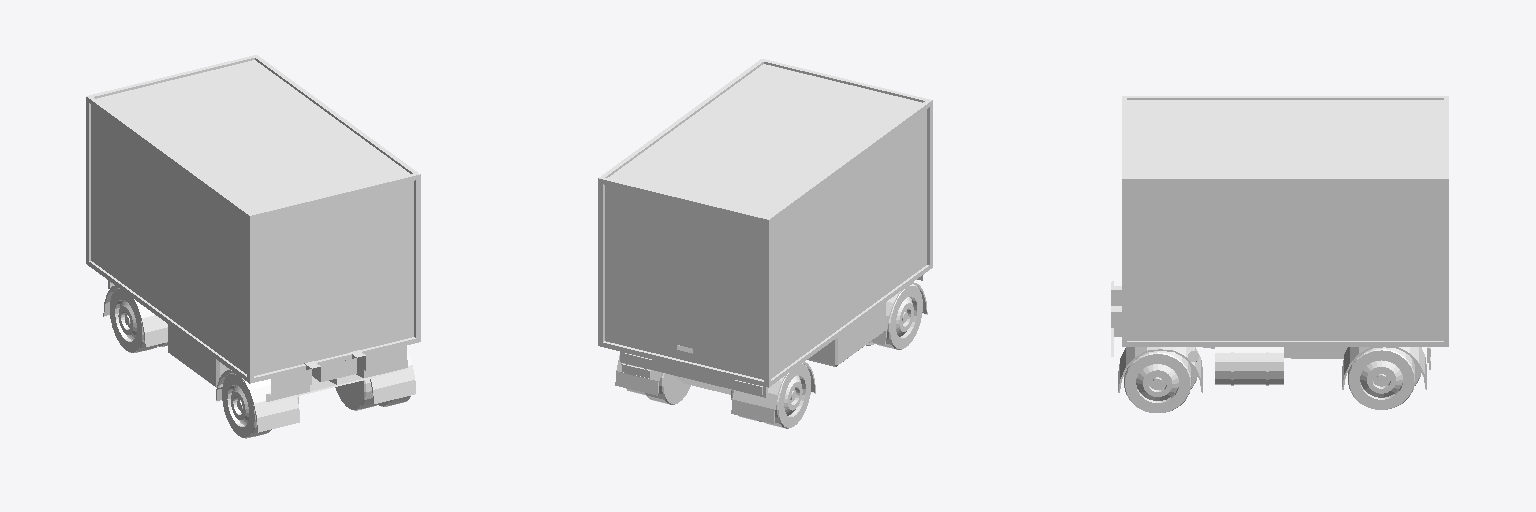
Rendered from truck_back.obj.
3 views of the same model, side by side, from view 1: azimuth 30°, elevation 25°; view 2: azimuth 150°, elevation 25°; view 3: azimuth 270°, elevation 25° (orthographic).
Visible parts, largest first — view 1: 1_Mesh.069, cabin_Mesh.061, 1_2.001_Mesh.078, front_wheel_2.006_Mesh.080, front_wheel_2.003_Mesh.054, Cube_Mesh.076, 1_2_Mesh.064, front_wheel_2.007_Mesh.081; view 2: 1_Mesh.069, 1_2_Mesh.064, Cube_Mesh.076, front_wheel_2.006_Mesh.080, front_wheel_2.003_Mesh.054, back_bumper_Mesh.071, front_wheel_2.004_Mesh.053, taillights_Mesh.063; view 3: 1_Mesh.069, front_wheel_2.001_Mesh.079, front_wheel_2.002_Mesh.055, fuel_reservior_Mesh.073, cabin_Mesh.061, 1_2.001_Mesh.078, 1_2_Mesh.064.
Boxes of the visible parts, x1=… form: 1_Mesh.069: x1=86, y1=55, x2=420, y2=383; cabin_Mesh.061: x1=266, y1=346, x2=407, y2=402; 1_2.001_Mesh.078: x1=216, y1=351, x2=415, y2=432; front_wheel_2.006_Mesh.080: x1=222, y1=373, x2=271, y2=438; front_wheel_2.003_Mesh.054: x1=110, y1=288, x2=158, y2=352; Cube_Mesh.076: x1=168, y1=324, x2=229, y2=388; 1_2_Mesh.064: x1=103, y1=286, x2=167, y2=346; front_wheel_2.007_Mesh.081: x1=335, y1=379, x2=379, y2=410; 1_Mesh.069: x1=598, y1=59, x2=932, y2=387; 1_2_Mesh.064: x1=615, y1=355, x2=815, y2=423; Cube_Mesh.076: x1=807, y1=302, x2=885, y2=366; front_wheel_2.006_Mesh.080: x1=875, y1=284, x2=922, y2=349; front_wheel_2.003_Mesh.054: x1=764, y1=363, x2=810, y2=428; back_bumper_Mesh.071: x1=620, y1=352, x2=767, y2=397; front_wheel_2.004_Mesh.053: x1=645, y1=372, x2=690, y2=404; taillights_Mesh.063: x1=622, y1=353, x2=762, y2=394; 1_Mesh.069: x1=1122, y1=96, x2=1448, y2=346; front_wheel_2.001_Mesh.079: x1=1124, y1=351, x2=1191, y2=412; front_wheel_2.002_Mesh.055: x1=1348, y1=347, x2=1414, y2=409; fuel_reservior_Mesh.073: x1=1215, y1=347, x2=1283, y2=385; cabin_Mesh.061: x1=1111, y1=281, x2=1347, y2=358; 1_2.001_Mesh.078: x1=1118, y1=347, x2=1202, y2=392; 1_2_Mesh.064: x1=1342, y1=347, x2=1426, y2=389.
Bounding box in the file's own units: 0.2 × 0.2658 × 0.3432.